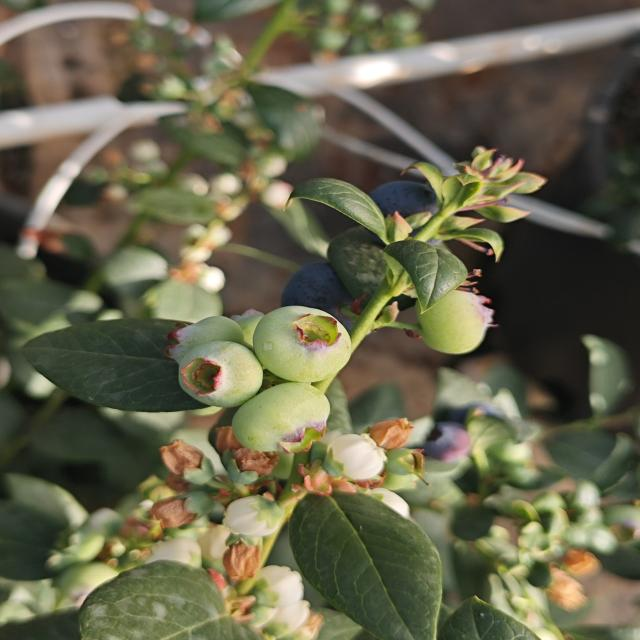ripe: (272, 254, 376, 328), (422, 391, 519, 464), (365, 169, 455, 247)
